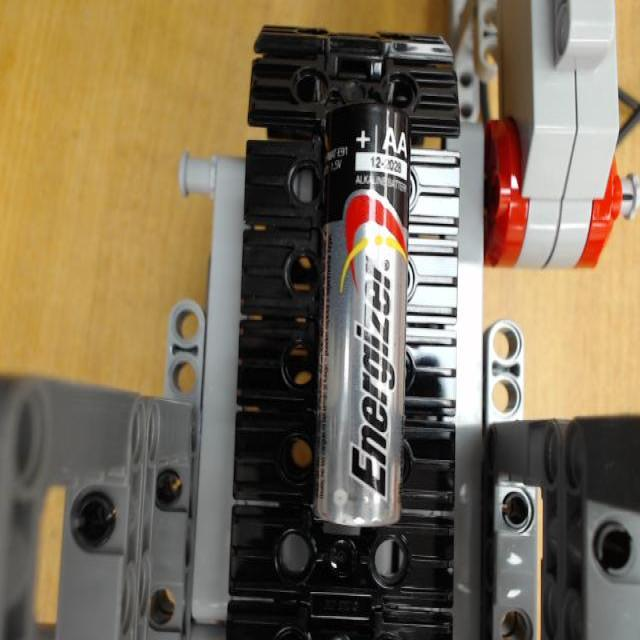AA: (318, 105, 410, 587)
